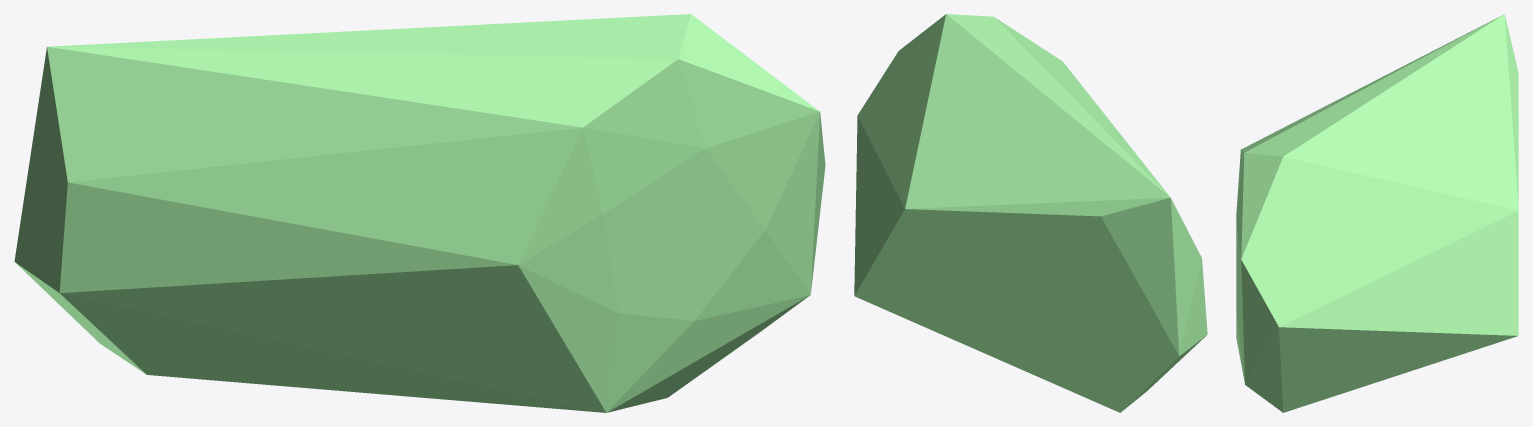
Rendered from UMIRobot_robot_base_coll_5.dae.
3 views of the same model, side by side, from view 1: azimuth 30°, elevation 25°; view 2: azimuth 150°, elevation 25°; view 3: azimuth 270°, elevation 25° (orthographic). The views are drawn at different scales.
Visible parts, largest first — view 1: node; view 2: node; view 3: node.
Boxes of the visible parts, box(x1,y1,x2,y2) form: node: box(14, 14, 825, 412); node: box(854, 14, 1207, 412); node: box(1236, 14, 1518, 412).
Bounding box in the file's own units: 0.0239 × 0.0133 × 0.0132.
